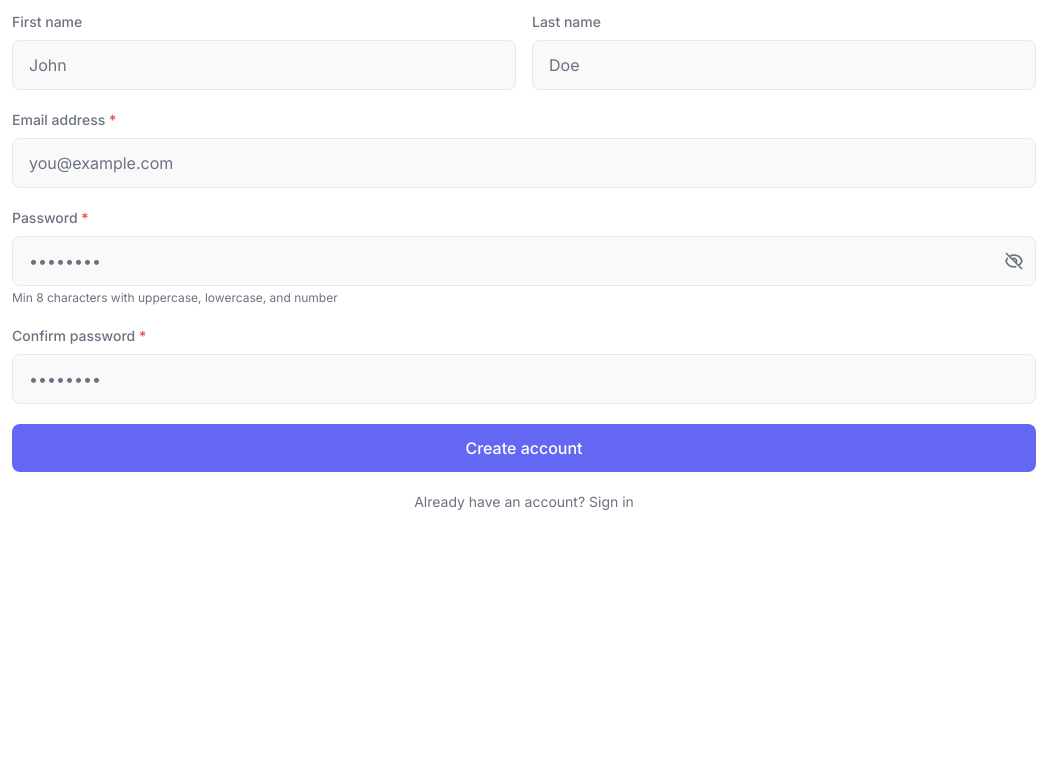
Scenario: RegisterForm › should show a confirm password error when passwords do not match
This screenshot has width=1048, height=780.
Type "jane@example.com" into the field labelled "Email address *" at [524, 163], box [12,138,1036,188]
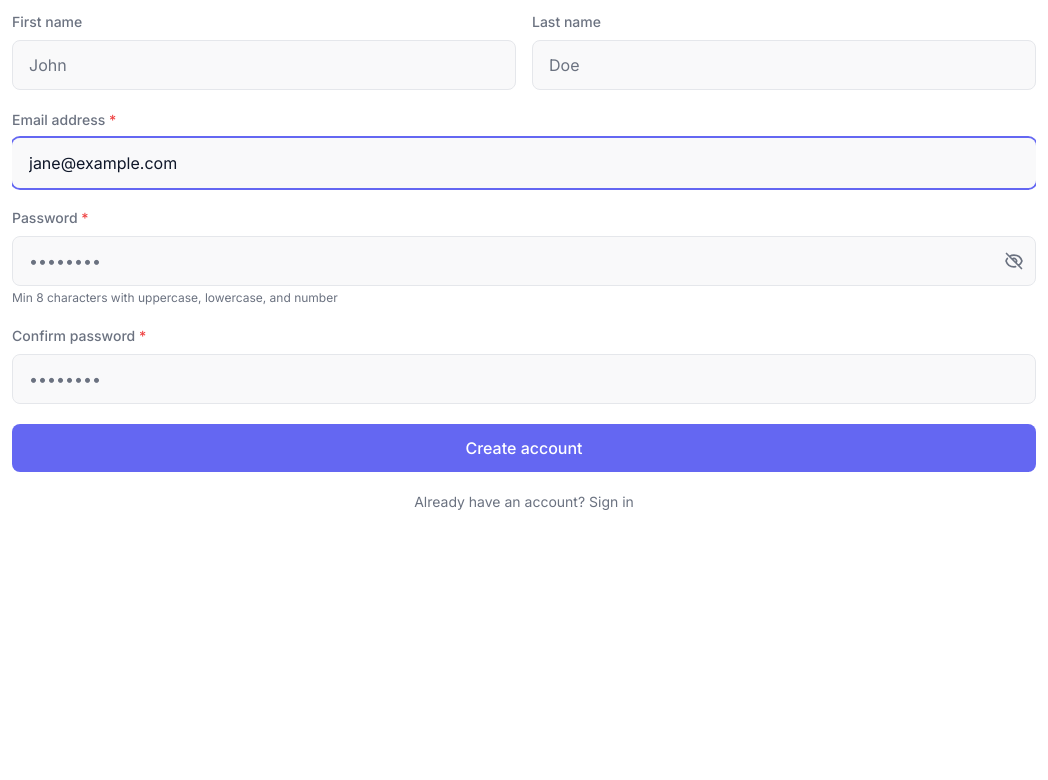
Type "Password1" into the password field labelled "Password *" at [524, 261], box [12,236,1036,286]
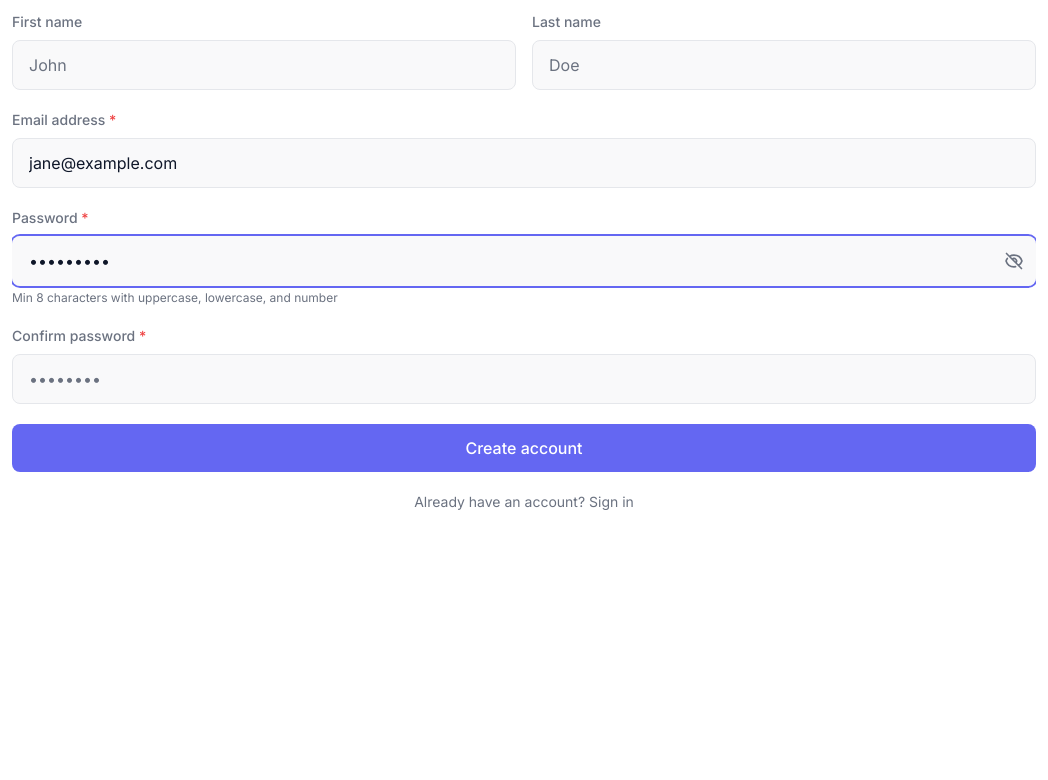
Type "Different1" into the password field labelled "Confirm password *" at [524, 379], box [12,354,1036,404]
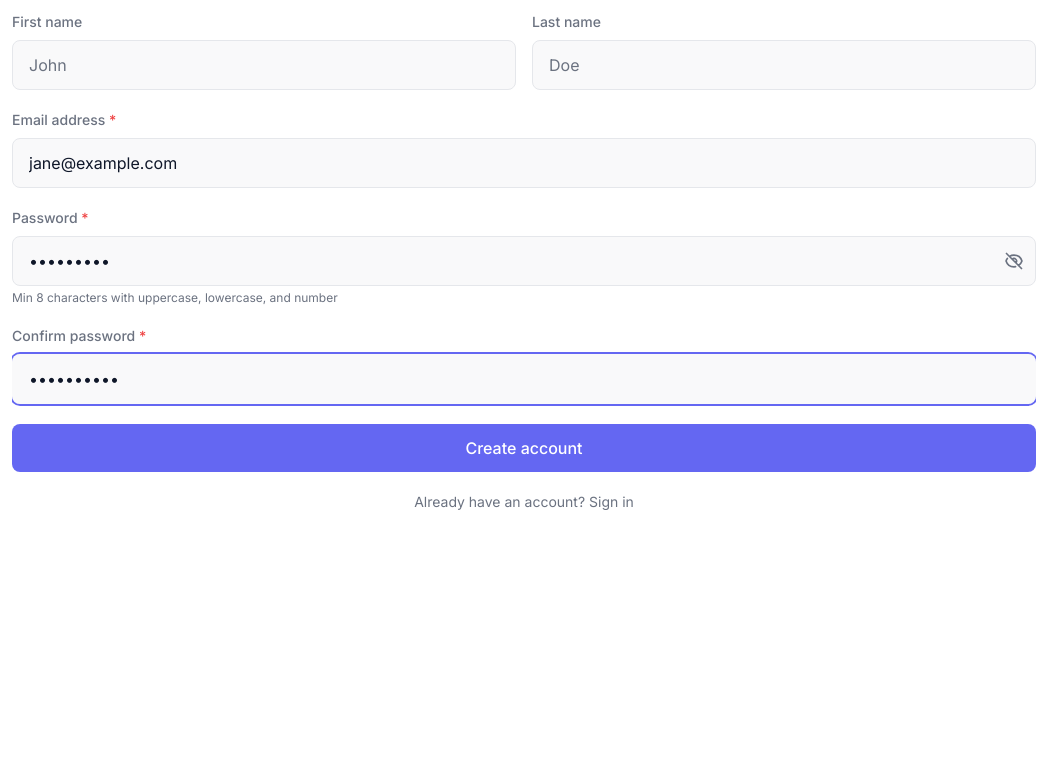
Click the button "Create account" at [524, 448], box [12,424,1036,472]
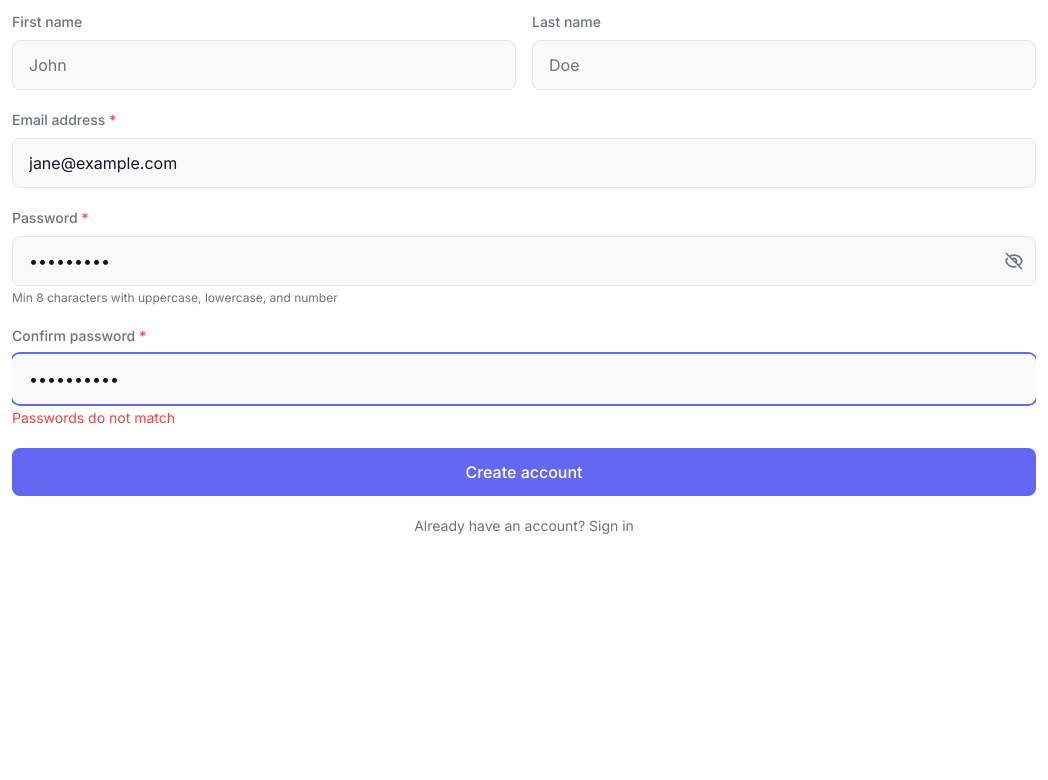
Check: the text "Passwords do not match" is shown, box [12,409,175,426]
